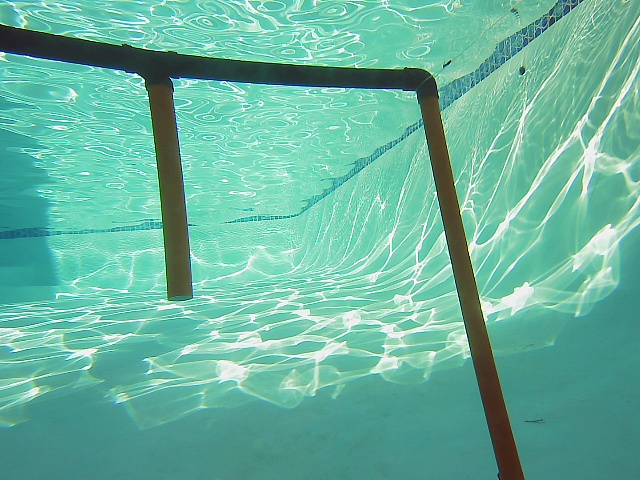Gate: (418, 91, 530, 480), (140, 76, 197, 306)
